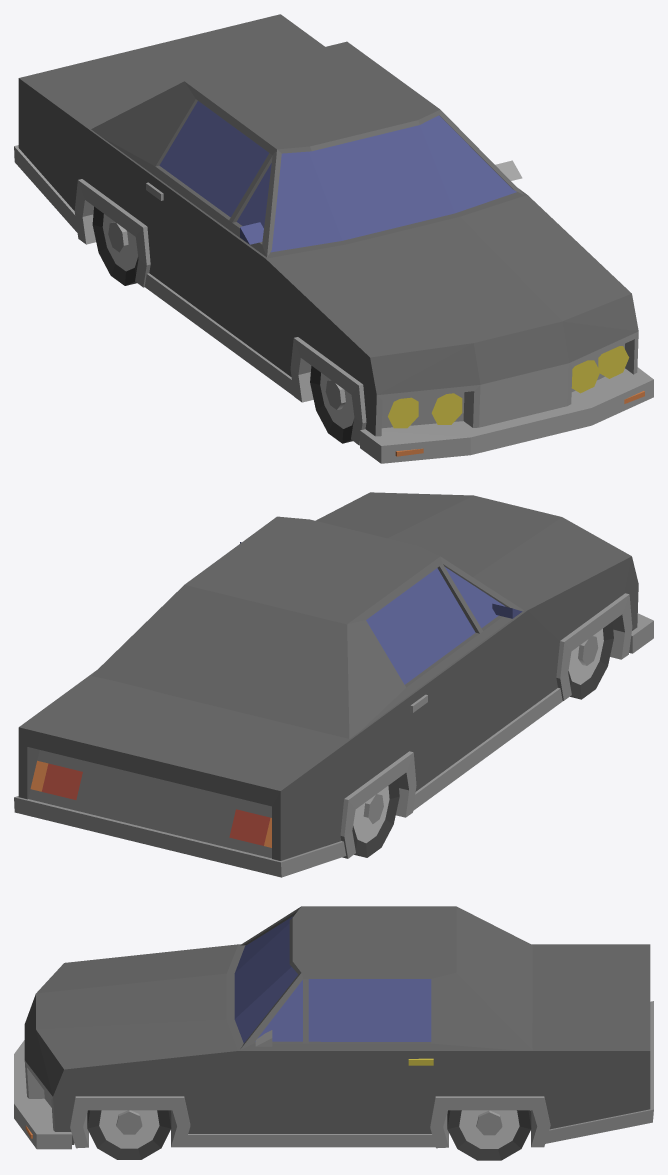
File: transport_cool_010.fbx
The picture shows the model from 3 angles, top to bottom: view 1: azimuth 30°, elevation 25°; view 2: azimuth 150°, elevation 25°; view 3: azimuth 270°, elevation 25°; orthographic projection. The views are drawn at different scales.
Visible parts, largest first — view 1: transport_cool_010; view 2: transport_cool_010; view 3: transport_cool_010.
Part boxes in pixels (x1=…): transport_cool_010: x1=14, y1=14, x2=653, y2=463; transport_cool_010: x1=14, y1=492, x2=653, y2=877; transport_cool_010: x1=14, y1=906, x2=653, y2=1160.
Size of the model in its own units: 142 by 101 by 346.
